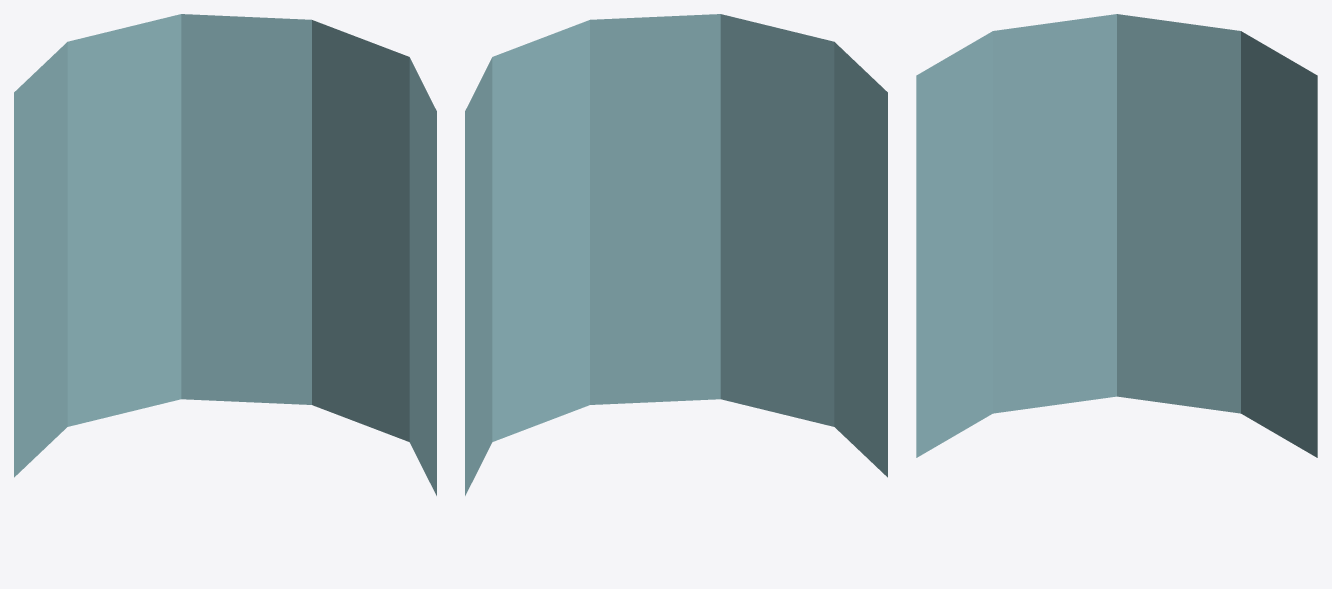
The model's file is pond_01.glb.
The picture shows the model from 3 angles, left to right: view 1: azimuth 30°, elevation 25°; view 2: azimuth 150°, elevation 25°; view 3: azimuth 270°, elevation 25°; orthographic projection.
Parts seen in each view (by area): view 1: 小水池; view 2: 小水池; view 3: 小水池.
Boxes of the visible parts, <box> form: 小水池: <box>14,14,436,495</box>; 小水池: <box>465,14,887,495</box>; 小水池: <box>916,14,1317,457</box>.
Bounding box in the file's own units: 1 × 1 × 0.9511.
